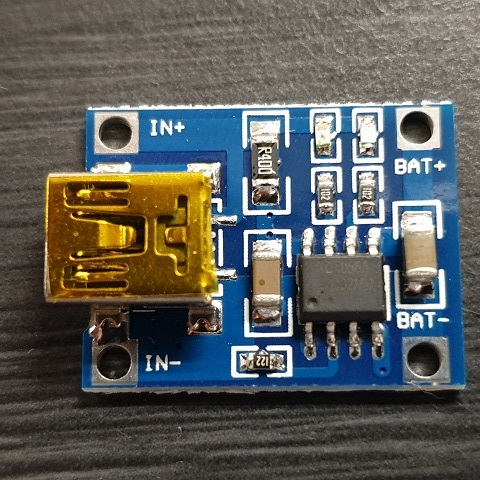batt+: (400, 104, 448, 147)
batt-: (401, 340, 449, 382)
charge: (306, 106, 340, 166)
done: (340, 108, 380, 166)
rprog: (230, 348, 290, 379)
usb: (40, 168, 214, 298)
